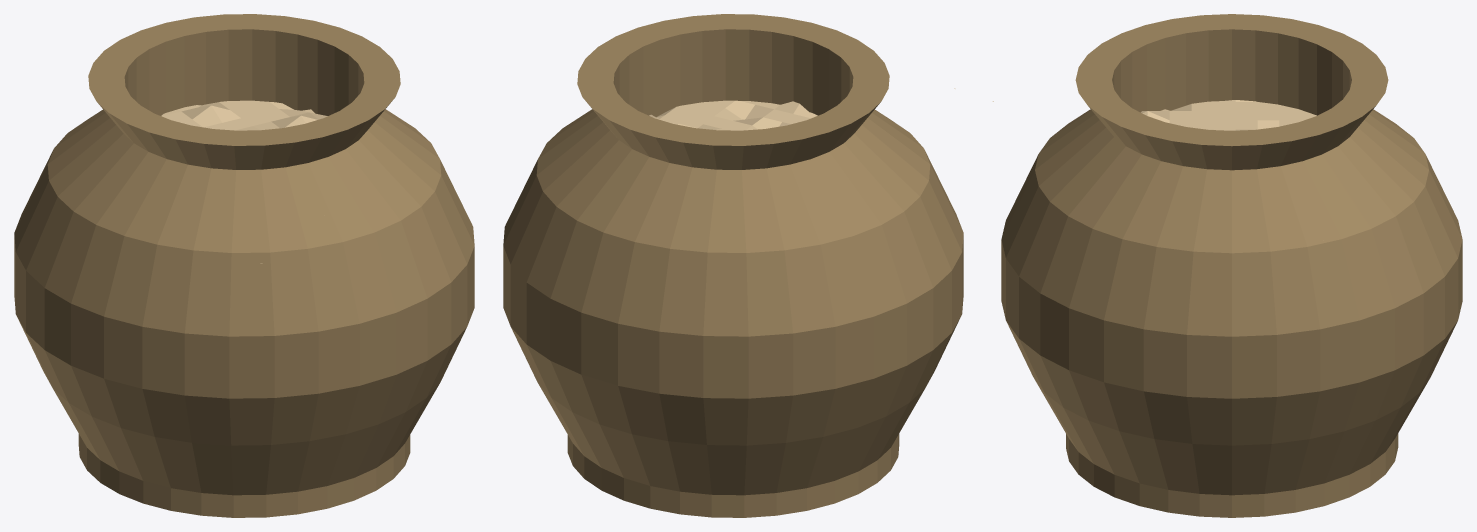
The model's file is Grain_Wheat.glb.
3 renders of one model, left to right at view 1: azimuth 30°, elevation 25°; view 2: azimuth 150°, elevation 25°; view 3: azimuth 270°, elevation 25°, orthographic.
Parts seen in each view (by area): view 1: grain_wheat.001; view 2: grain_wheat.001; view 3: grain_wheat.001.
Part boxes in pixels (box(x1,y1,x2,y2)): grain_wheat.001: box(14, 14, 474, 517); grain_wheat.001: box(503, 14, 963, 517); grain_wheat.001: box(992, 14, 1462, 517).
Bounding box in the file's own units: 0.3745 × 0.3294 × 0.3818.
